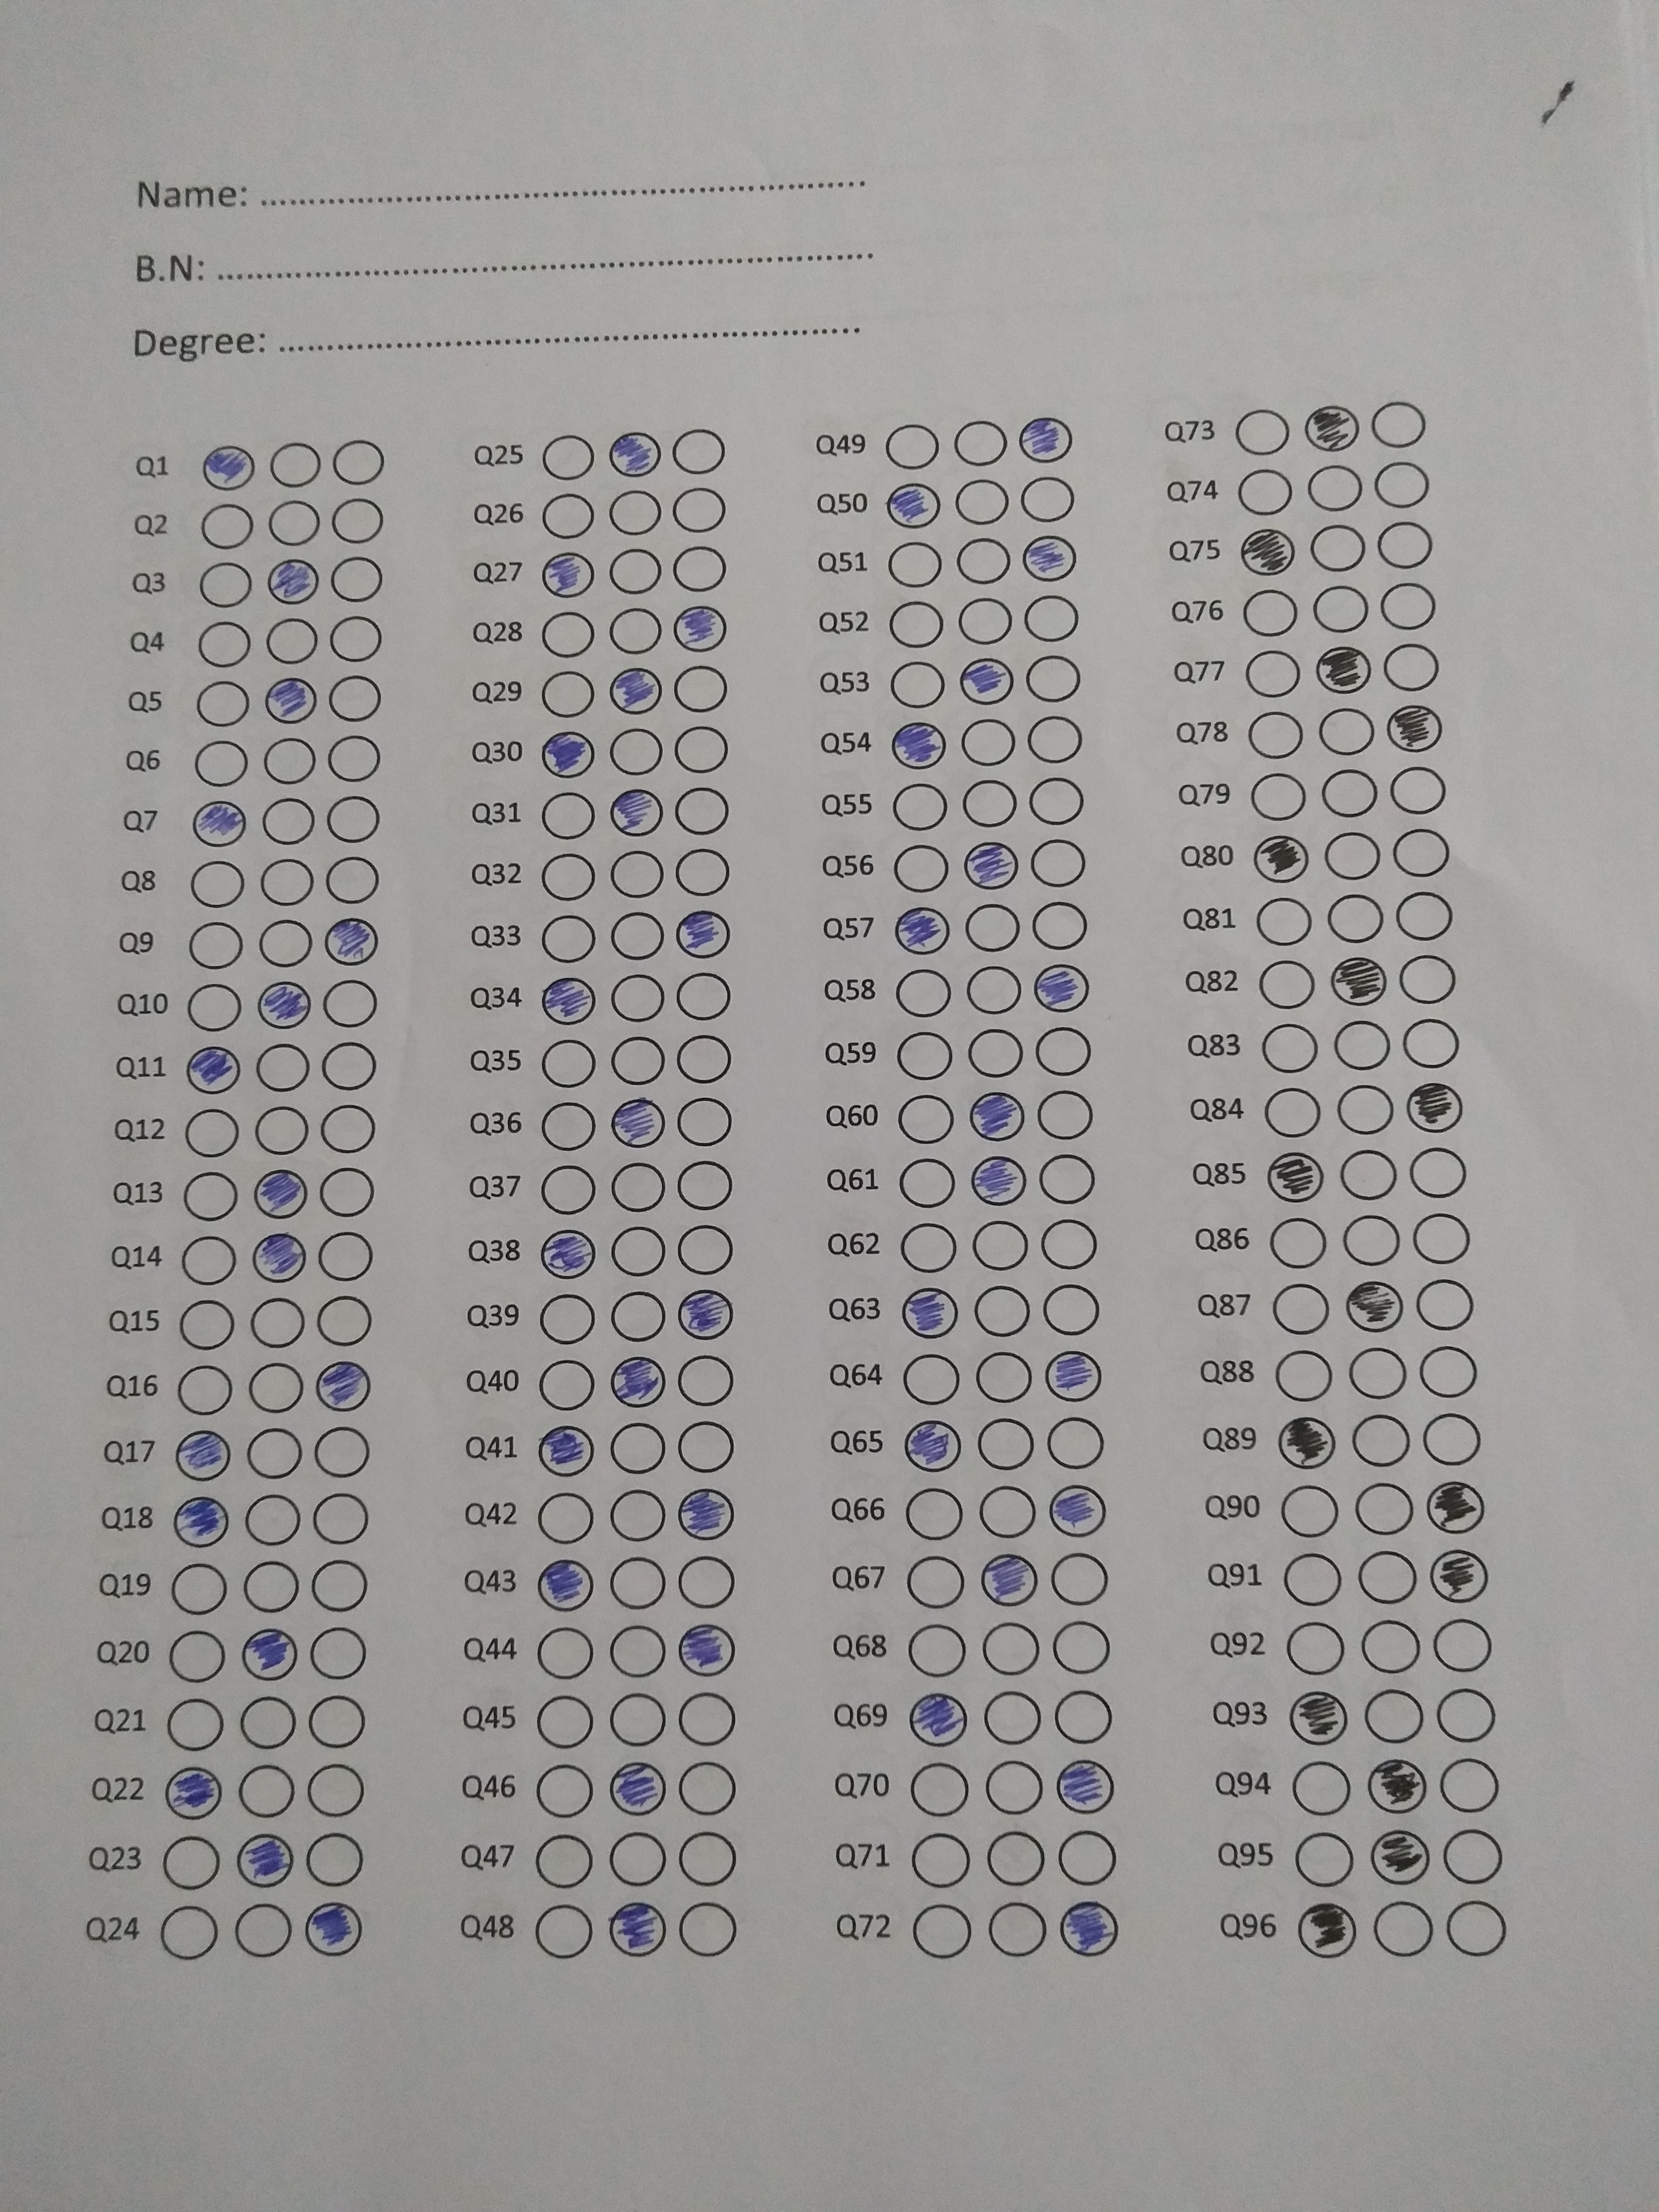not-c: (1432, 1615, 1495, 1677), (1401, 1014, 1464, 1076), (1258, 1015, 1321, 1078), (1262, 1083, 1324, 1146), (1303, 516, 1366, 578), (1232, 402, 1295, 465), (1443, 1827, 1506, 1888), (1370, 394, 1432, 455), (1270, 1280, 1333, 1341), (1417, 1343, 1480, 1404), (1347, 1345, 1410, 1406), (1272, 1348, 1335, 1409), (1351, 1413, 1413, 1474), (1422, 1411, 1485, 1472), (1352, 1479, 1415, 1540), (1279, 1480, 1342, 1541), (1359, 1548, 1422, 1609), (1283, 1550, 1345, 1611), (1286, 1618, 1349, 1679), (1359, 1616, 1422, 1677), (1363, 1686, 1425, 1747), (1436, 1686, 1499, 1747), (1438, 1756, 1500, 1817), (1291, 1757, 1354, 1818), (1323, 883, 1385, 944), (1253, 887, 1316, 948), (1398, 948, 1460, 1008), (1256, 953, 1319, 1014), (1330, 1012, 1392, 1073), (1335, 1082, 1398, 1143), (1335, 1143, 1398, 1204), (1406, 1143, 1469, 1204), (1412, 1207, 1474, 1268), (1340, 1209, 1403, 1270), (1267, 1212, 1330, 1273), (1412, 1273, 1474, 1334), (1307, 458, 1370, 519), (1237, 462, 1300, 523), (1373, 514, 1436, 575), (1380, 573, 1443, 634), (1310, 580, 1373, 641), (1241, 583, 1303, 644), (1380, 639, 1443, 700), (1317, 704, 1380, 765), (1244, 700, 1307, 761), (1385, 759, 1448, 820), (1319, 765, 1382, 826), (1248, 765, 1310, 826), (1391, 822, 1453, 883), (1321, 822, 1384, 883), (1394, 885, 1457, 946), (1371, 455, 1434, 516), (1241, 646, 1302, 700), (315, 1296, 376, 1348), (265, 439, 324, 491), (314, 1494, 373, 1547), (321, 977, 380, 1029), (185, 981, 244, 1033), (256, 918, 315, 970), (188, 920, 247, 972), (322, 855, 382, 907), (258, 857, 317, 909), (188, 857, 247, 909), (324, 792, 383, 845), (260, 794, 319, 846), (326, 733, 385, 786), (260, 735, 319, 787), (197, 502, 256, 554), (195, 678, 254, 730), (328, 613, 387, 665), (261, 615, 321, 667), (195, 618, 254, 671), (195, 559, 254, 611), (263, 498, 322, 550), (331, 435, 390, 488), (314, 1426, 373, 1479), (242, 1494, 301, 1547), (244, 1428, 303, 1480), (174, 1364, 234, 1416), (176, 1298, 235, 1350), (315, 1230, 375, 1282), (178, 1235, 237, 1287), (317, 1165, 376, 1217), (183, 1169, 242, 1221), (253, 1104, 312, 1157), (183, 1108, 242, 1160), (317, 1040, 376, 1092), (1295, 1834, 1354, 1886), (676, 1695, 735, 1747), (608, 1693, 667, 1745), (535, 1695, 594, 1747), (678, 1761, 737, 1813), (680, 1834, 739, 1886), (608, 1834, 667, 1886), (680, 1904, 739, 1956), (535, 1905, 594, 1958), (232, 1904, 291, 1956), (305, 1834, 364, 1886), (160, 1905, 220, 1958), (162, 1836, 221, 1888), (305, 1764, 364, 1817), (307, 1695, 366, 1747), (239, 1696, 298, 1749), (166, 1696, 225, 1749), (308, 1627, 368, 1679), (167, 1630, 227, 1683), (242, 1559, 301, 1611), (169, 1562, 228, 1615), (608, 1224, 667, 1277), (537, 1294, 596, 1346), (537, 1359, 596, 1411), (608, 1555, 667, 1608), (606, 1421, 666, 1474), (535, 1493, 594, 1545), (608, 1489, 667, 1541), (676, 1555, 735, 1608), (606, 1625, 666, 1677), (606, 850, 666, 902), (538, 852, 598, 904), (608, 911, 667, 963), (540, 914, 599, 967), (673, 970, 732, 1022), (606, 974, 666, 1026), (676, 1033, 735, 1085), (610, 1036, 669, 1089), (538, 1038, 598, 1090), (673, 1096, 732, 1148), (540, 1101, 599, 1153), (610, 1162, 669, 1214), (537, 1163, 596, 1216), (1018, 474, 1077, 526), (950, 420, 1009, 472), (882, 423, 941, 475), (671, 425, 730, 477), (538, 434, 598, 486), (669, 484, 728, 536), (540, 491, 599, 543), (669, 543, 728, 596), (606, 604, 666, 657), (537, 608, 596, 660), (538, 669, 598, 721), (671, 664, 730, 716), (671, 725, 730, 777), (538, 789, 598, 841), (673, 786, 732, 838), (673, 848, 732, 900), (1032, 899, 1091, 951), (964, 900, 1023, 953), (1028, 836, 1087, 888), (890, 843, 950, 895), (1026, 775, 1086, 827), (960, 777, 1019, 829), (892, 780, 951, 833), (1025, 712, 1084, 765), (958, 716, 1018, 768), (1025, 651, 1084, 704), (887, 658, 946, 711), (1023, 592, 1082, 644), (958, 596, 1018, 648), (887, 599, 946, 651), (887, 538, 946, 590), (1051, 1554, 1110, 1606), (906, 1555, 965, 1608), (978, 1486, 1037, 1538), (904, 1489, 964, 1541), (1046, 1416, 1105, 1468), (976, 1418, 1035, 1470), (974, 1350, 1033, 1402), (901, 1353, 960, 1406), (1040, 1282, 1100, 1334), (972, 1284, 1032, 1336), (1040, 1217, 1100, 1270), (969, 1221, 1028, 1273), (899, 1221, 958, 1273), (899, 1158, 958, 1211), (1035, 1089, 1094, 1141), (896, 1092, 955, 1144), (965, 1028, 1025, 1080), (896, 1029, 955, 1082), (1446, 1902, 1506, 1954), (1373, 1902, 1432, 1954), (986, 1904, 1046, 1956), (1056, 1832, 1115, 1885), (985, 1832, 1044, 1885), (986, 1761, 1046, 1813), (911, 1834, 971, 1886), (910, 1764, 969, 1817), (1053, 1689, 1112, 1742), (985, 1691, 1044, 1743), (1053, 1622, 1112, 1674), (981, 1622, 1040, 1674), (908, 1623, 967, 1676), (254, 1042, 312, 1094), (247, 1296, 305, 1348), (537, 1836, 594, 1888), (310, 1559, 368, 1611), (676, 1421, 734, 1474), (537, 1627, 594, 1679), (674, 1158, 732, 1211), (951, 475, 1009, 528), (606, 486, 664, 538), (606, 547, 664, 599), (606, 726, 664, 779), (1033, 1024, 1091, 1076), (965, 963, 1023, 1015), (894, 965, 951, 1017), (190, 737, 249, 787), (324, 672, 383, 723), (326, 554, 385, 604), (326, 496, 385, 547), (246, 1362, 305, 1413), (317, 1103, 376, 1153), (535, 1766, 594, 1817), (235, 1766, 295, 1817), (608, 1292, 667, 1343), (676, 1355, 735, 1406), (676, 1224, 735, 1275), (1037, 1153, 1096, 1204), (957, 535, 1014, 585), (913, 1905, 971, 1956)
taken-c: (1053, 1757, 1115, 1818), (1368, 1827, 1432, 1886), (235, 1829, 296, 1890), (1366, 1757, 1429, 1817), (606, 1898, 667, 1958), (1044, 1346, 1105, 1406), (1060, 1898, 1121, 1958), (906, 1691, 969, 1749), (1297, 1900, 1359, 1958), (301, 1898, 361, 1958), (608, 1759, 667, 1818), (981, 1548, 1040, 1608), (1429, 1547, 1488, 1606), (164, 1764, 225, 1822), (1288, 1689, 1349, 1747), (1425, 1479, 1486, 1536), (1047, 1482, 1110, 1538), (174, 1426, 232, 1486), (678, 1620, 737, 1677), (535, 1555, 594, 1613), (1277, 1414, 1337, 1472), (242, 1623, 298, 1684), (606, 1353, 667, 1409), (899, 1284, 960, 1339), (901, 1418, 962, 1474), (315, 1359, 375, 1414), (535, 1423, 594, 1479), (969, 1153, 1028, 1209), (1265, 1150, 1326, 1204), (676, 906, 734, 961), (964, 836, 1019, 894), (322, 914, 382, 968), (676, 1487, 735, 1541), (676, 1287, 735, 1341), (1405, 1082, 1466, 1134), (173, 1494, 230, 1548), (1033, 961, 1091, 1015), (955, 655, 1014, 707), (892, 906, 951, 958), (256, 981, 315, 1033), (1314, 644, 1373, 697), (1302, 401, 1361, 453), (1385, 704, 1446, 754), (254, 1165, 308, 1221), (612, 1096, 667, 1150), (538, 549, 596, 601), (538, 728, 596, 780), (608, 786, 666, 838), (185, 1043, 242, 1096), (251, 1233, 308, 1285), (538, 1228, 596, 1280), (969, 1090, 1026, 1143), (1347, 1280, 1405, 1332), (887, 721, 946, 772), (202, 442, 258, 495), (542, 975, 598, 1028), (1253, 833, 1309, 885), (1016, 415, 1073, 465), (1330, 958, 1387, 1008), (1239, 528, 1298, 577), (192, 799, 247, 850), (606, 665, 662, 716), (267, 556, 321, 606), (606, 428, 660, 479), (673, 604, 727, 655), (261, 676, 317, 725), (885, 482, 941, 531), (1021, 535, 1077, 583)
